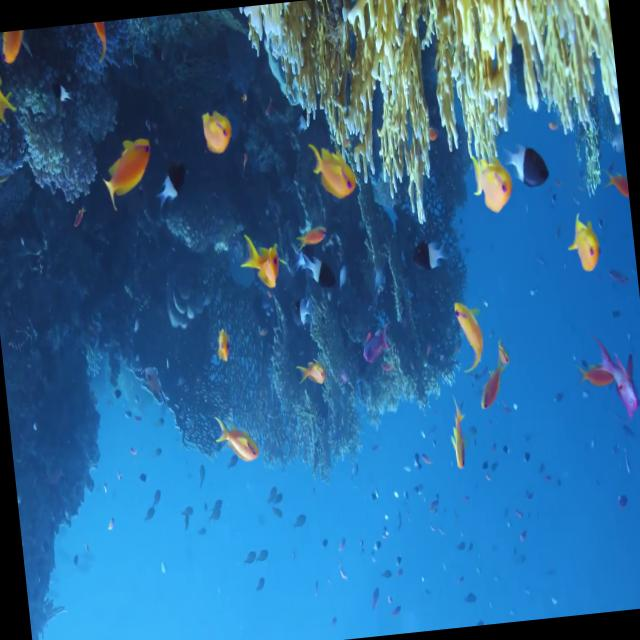fish: (577, 335, 640, 421), (96, 132, 158, 206), (306, 137, 357, 205), (473, 340, 515, 412), (468, 152, 514, 217), (501, 140, 551, 192), (215, 412, 261, 468), (451, 301, 487, 372), (238, 234, 282, 290), (567, 212, 604, 272), (150, 156, 188, 206), (198, 106, 235, 156), (445, 399, 472, 467), (408, 232, 448, 276), (300, 246, 336, 292), (0, 31, 16, 129), (294, 355, 328, 387)
